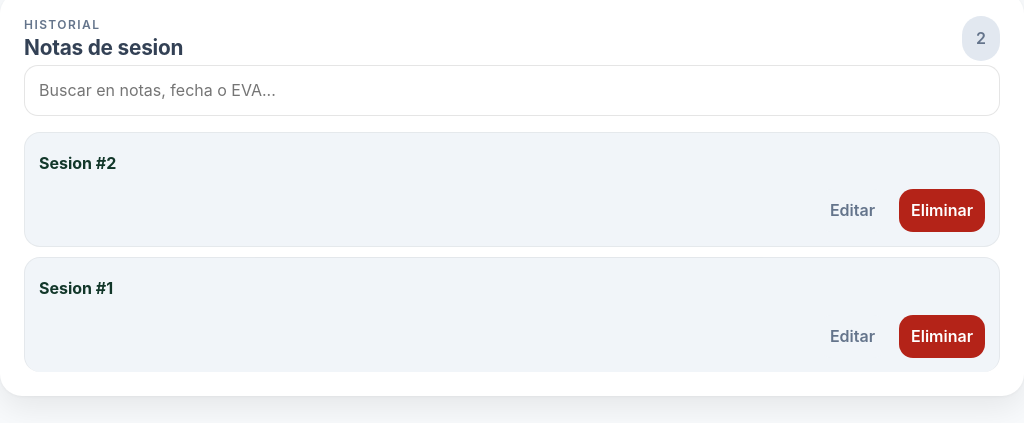
Test: SessionNotesList › filters notes by clinical text
In the field with placeholder "Buscar en notas, fecha o EVA...": (512,90) 24,65 -> 1000,116, type "lumbar"
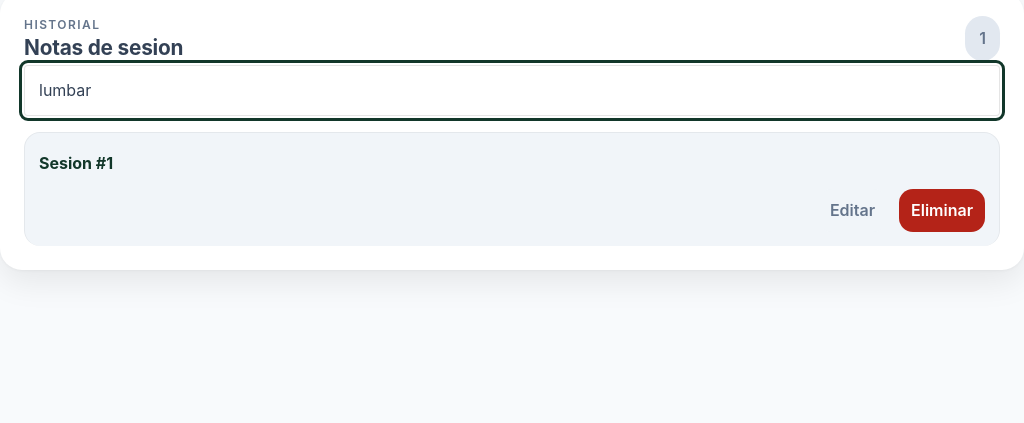
Expected: the text "Sesion #1" is shown, 39,153 -> 113,173
Now the button "Sesion #2" is gone
